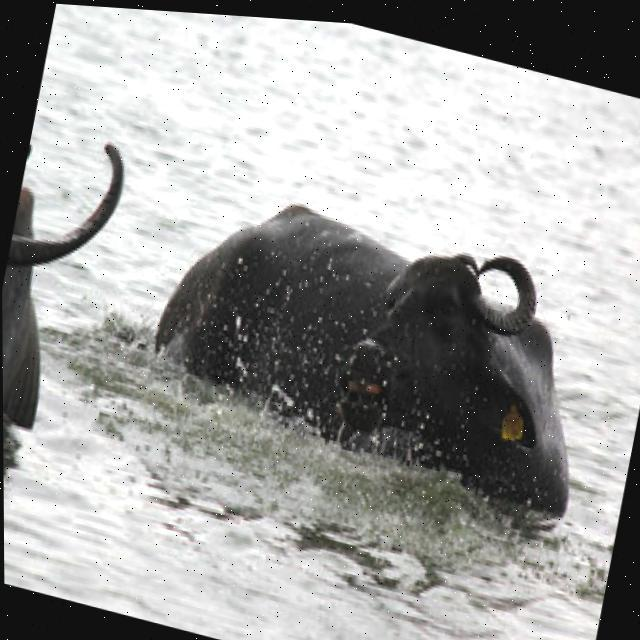Buffalo: (135, 166, 616, 533)
